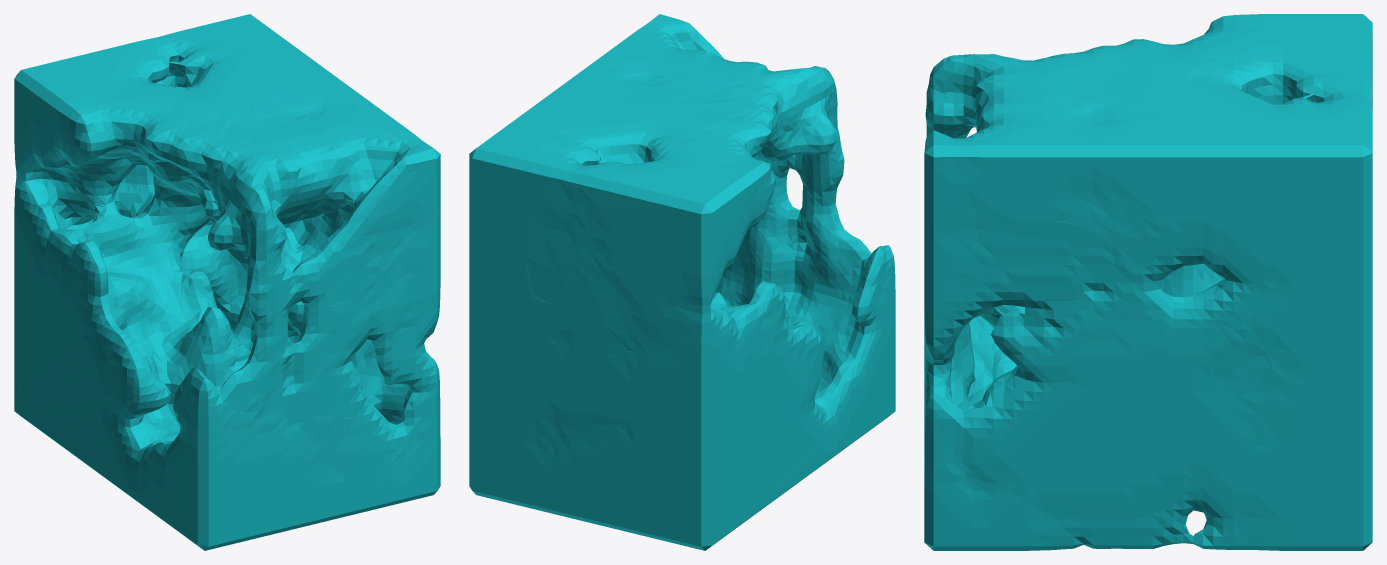
3 renders of one model, left to right at view 1: azimuth 30°, elevation 25°; view 2: azimuth 150°, elevation 25°; view 3: azimuth 270°, elevation 25°, orthographic. The views are drawn at different scales.
Visible parts, largest first — view 1: Liquid_Domain; view 2: Liquid_Domain; view 3: Liquid_Domain.
Boxes of the visible parts, x1=… form: Liquid_Domain: x1=14, y1=14, x2=440, y2=550; Liquid_Domain: x1=469, y1=14, x2=895, y2=550; Liquid_Domain: x1=924, y1=14, x2=1372, y2=550.
Bounding box in the file's own units: 79.11 × 108 × 108.
